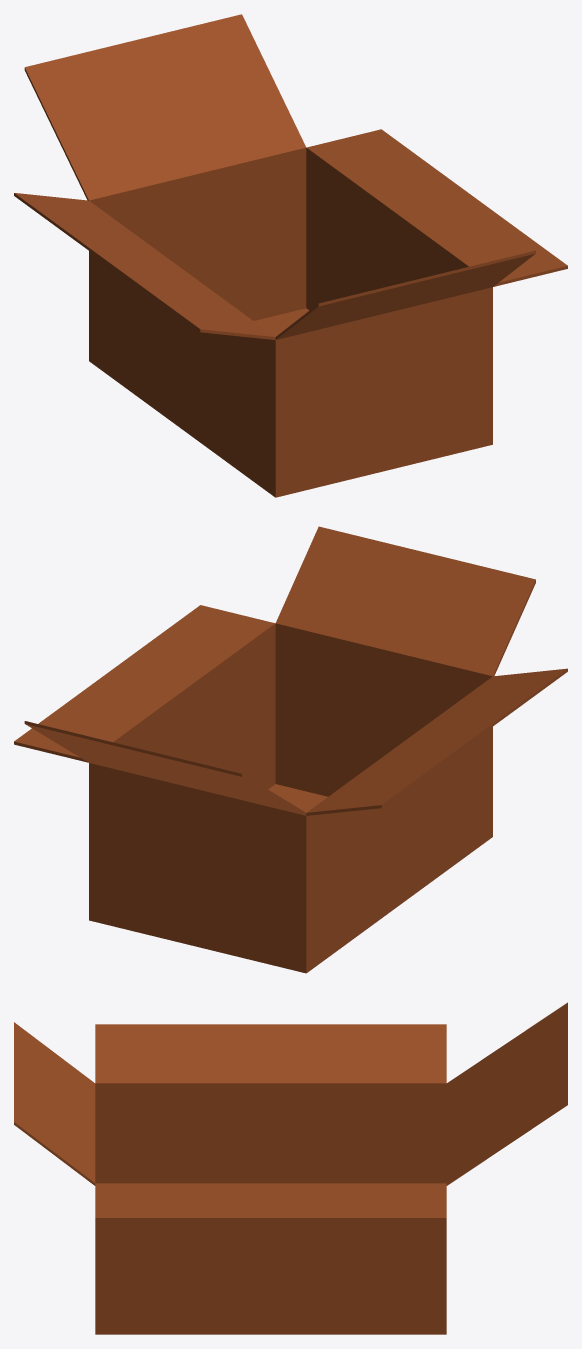
Rendered from caixa de papelao.fbx.
The picture shows the model from 3 angles, top to bottom: view 1: azimuth 30°, elevation 25°; view 2: azimuth 150°, elevation 25°; view 3: azimuth 270°, elevation 25°; orthographic projection. The views are drawn at different scales.
Visible parts, largest first — view 1: Cube; view 2: Cube; view 3: Cube.
Part boxes in pixels (x1,y1,x2,y2): Cube: (14,14,567,497); Cube: (14,526,567,973); Cube: (14,1002,567,1334).
Size of the model in its own units: 488 by 313 by 676.
